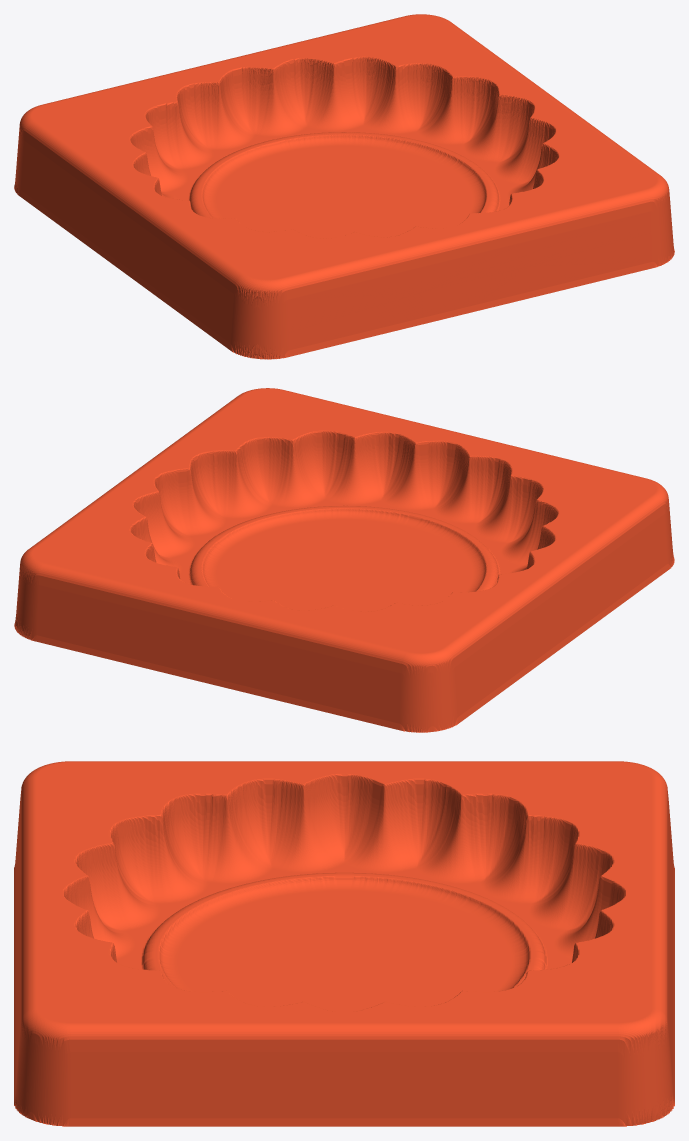
Rendered from mold.glb.
3 views of the same model, one above another, from view 1: azimuth 30°, elevation 25°; view 2: azimuth 150°, elevation 25°; view 3: azimuth 270°, elevation 25° (orthographic). The views are drawn at different scales.
Parts seen in each view (by area): view 1: geometry_0; view 2: geometry_0; view 3: geometry_0.
Part boxes in pixels (<box>): geometry_0: <box>14,14,674,359</box>; geometry_0: <box>14,388,674,732</box>; geometry_0: <box>14,761,674,1126</box>.
Size of the model in its own units: 0.105 by 0.0165 by 0.105.
